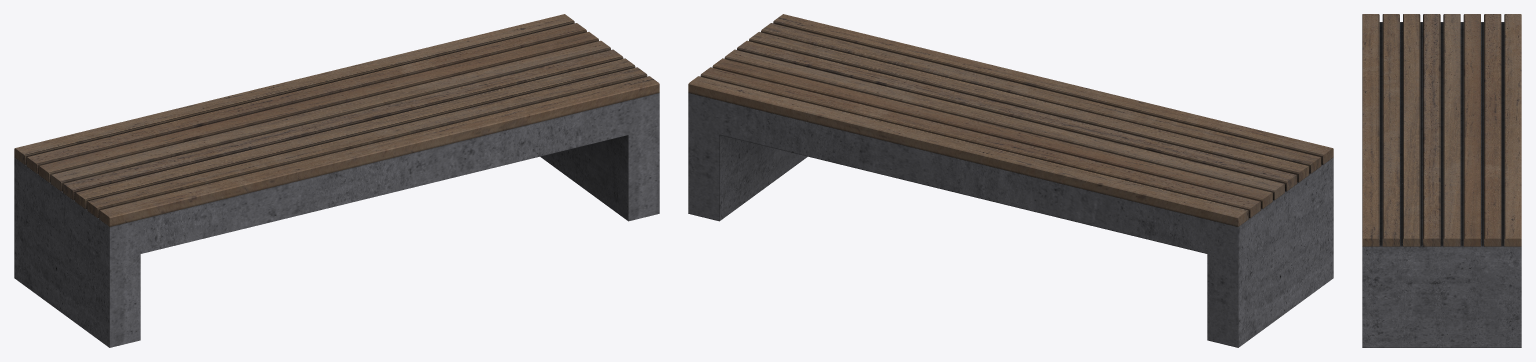
The model's file is bench#1.FBX.
The picture shows the model from 3 angles, left to right: view 1: azimuth 30°, elevation 25°; view 2: azimuth 150°, elevation 25°; view 3: azimuth 270°, elevation 25°; orthographic projection. The views are drawn at different scales.
Parts seen in each view (by area): view 1: Box001; view 2: Box001; view 3: Box001.
Part boxes in pixels (x1,y1,x2,y2): Box001: (14, 14, 659, 347); Box001: (688, 14, 1333, 347); Box001: (1362, 14, 1521, 347).
Bounding box in the file's own units: 78.74 × 17.84 × 23.62.
